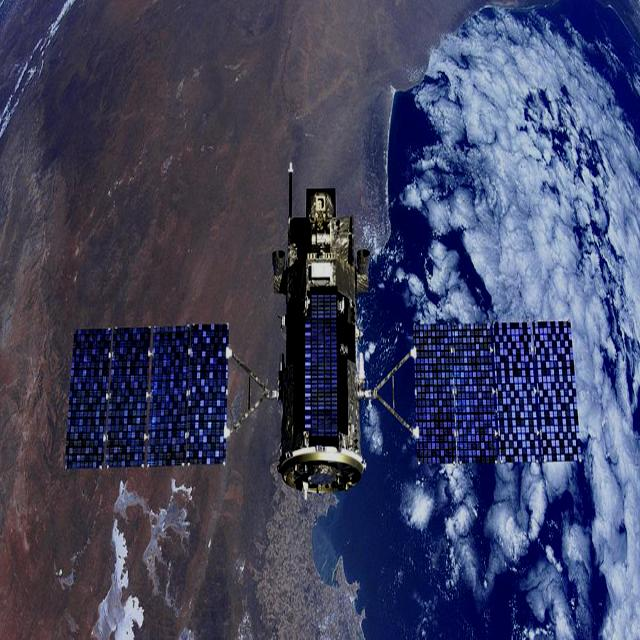medium_debris: (51, 159, 588, 512)
